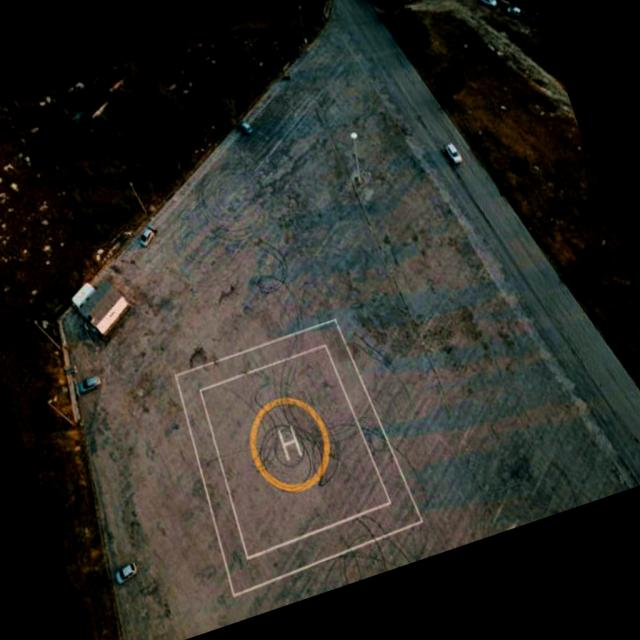helipad: (243, 391, 333, 495)
